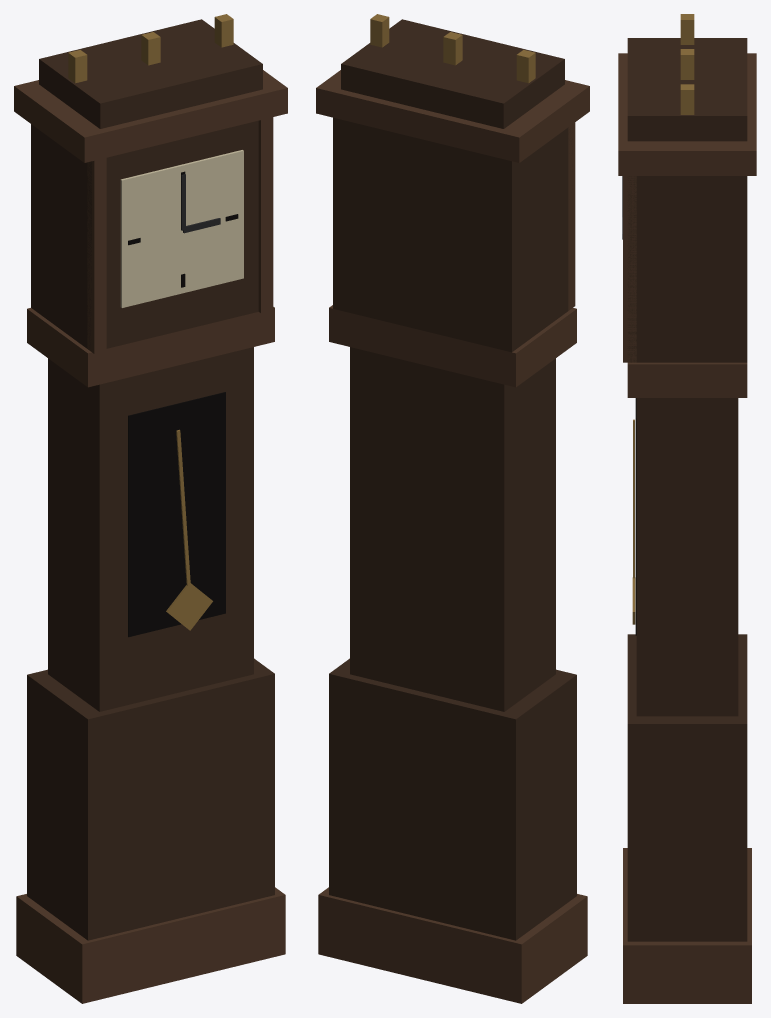
Rendered from longcase_clock.glb.
3 views of the same model, side by side, from view 1: azimuth 30°, elevation 25°; view 2: azimuth 150°, elevation 25°; view 3: azimuth 270°, elevation 25° (orthographic).
Visible parts, largest first — view 1: longcase_clock; view 2: longcase_clock; view 3: longcase_clock.
Boxes of the visible parts, box(x1,y1,x2,y2) form: longcase_clock: box(14, 14, 287, 1003); longcase_clock: box(316, 14, 589, 1003); longcase_clock: box(618, 14, 756, 1003).
Bounding box in the file's own units: 0.5 × 2.16 × 0.3.
